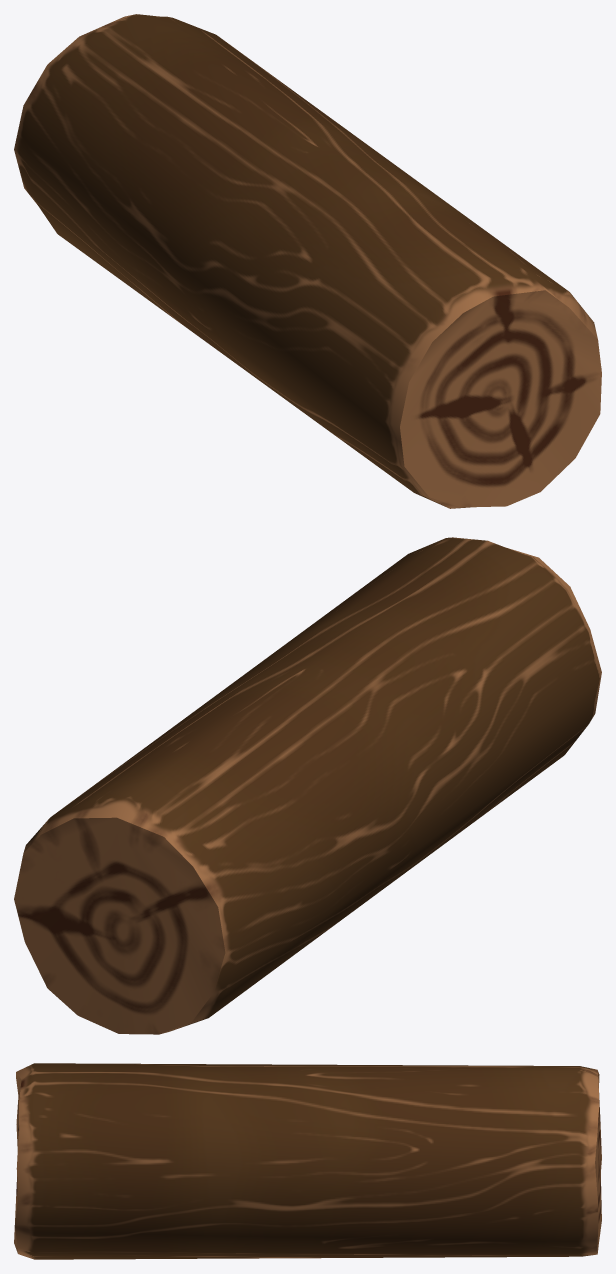
Rendered from beam02.glb.
3 renders of one model, top to bottom at view 1: azimuth 30°, elevation 25°; view 2: azimuth 150°, elevation 25°; view 3: azimuth 270°, elevation 25°, orthographic. The views are drawn at different scales.
Parts seen in each view (by area): view 1: beam02; view 2: beam02; view 3: beam02.
Boxes of the visible parts, bbox=[...] form: beam02: bbox=[14, 14, 601, 508]; beam02: bbox=[14, 537, 601, 1034]; beam02: bbox=[14, 1063, 601, 1259].
Size of the model in its own units: 0.4931 by 0.4955 by 1.47.
Materials: 1 (1 with a texture image).
